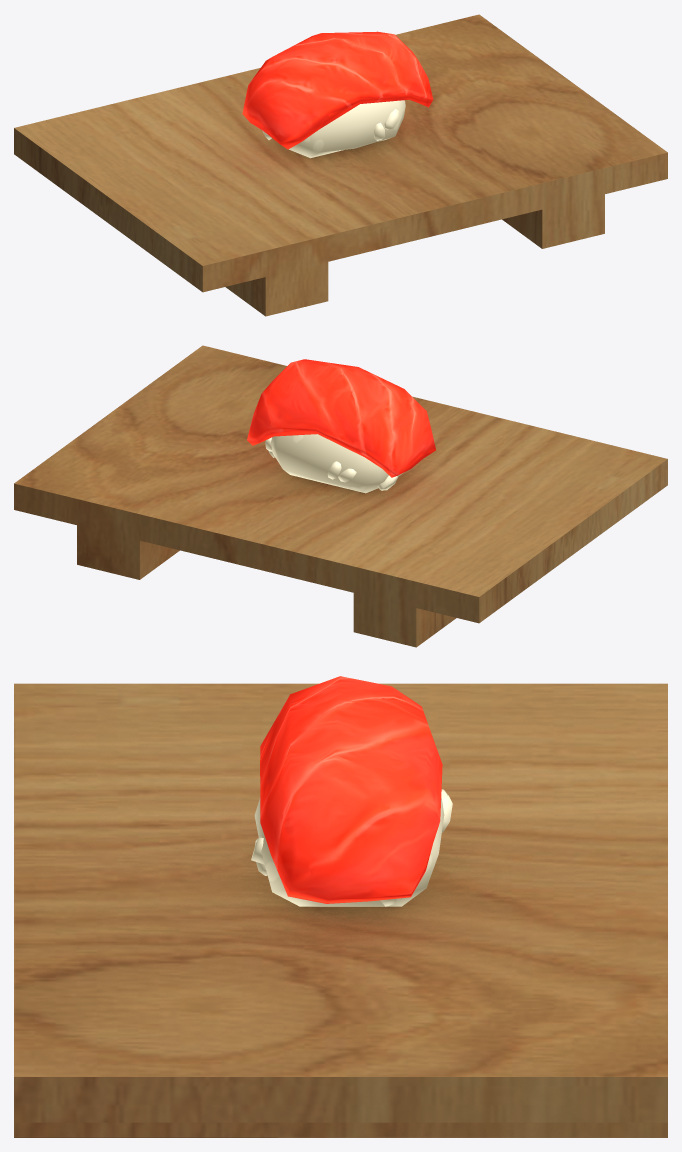
The model's file is sushi_maguro.glb.
3 renders of one model, top to bottom at view 1: azimuth 30°, elevation 25°; view 2: azimuth 150°, elevation 25°; view 3: azimuth 270°, elevation 25°, orthographic. The views are drawn at different scales.
Parts seen in each view (by area): view 1: geta.vox, Cube.010, maguro; view 2: geta.vox, Cube.010, maguro; view 3: geta.vox, Cube.010, maguro.
Part boxes in pixels (x1,y1,x2,y2): geta.vox: [14, 14, 667, 316]; Cube.010: [242, 31, 433, 149]; maguro: [262, 100, 405, 158]; geta.vox: [14, 345, 667, 647]; Cube.010: [247, 359, 435, 477]; maguro: [265, 434, 403, 493]; geta.vox: [14, 683, 667, 1137]; Cube.010: [260, 676, 442, 903]; maguro: [251, 789, 452, 906].
Bounding box in the file's own units: 0.6148 × 0.2119 × 0.432.
Materials: 3 (3 with a texture image).
